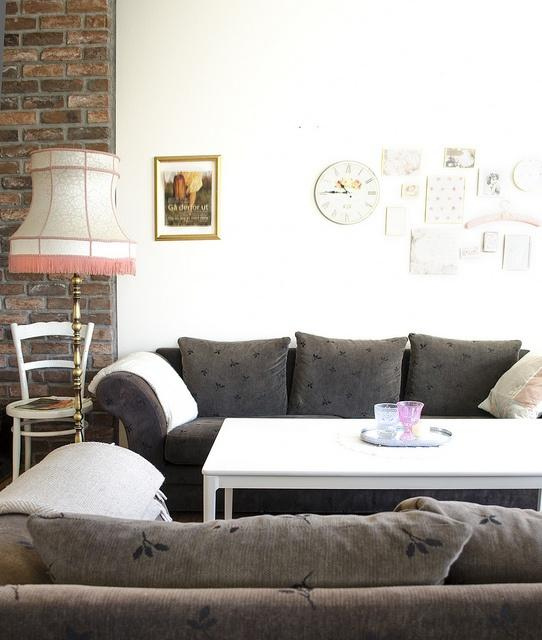Kursi: (6, 318, 92, 480)
Meja: (199, 416, 541, 522)
